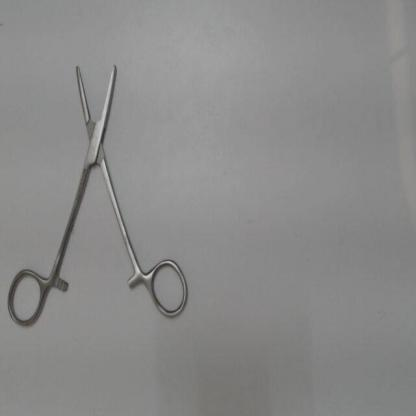Mayo Needle Holder: (0, 48, 193, 335)
